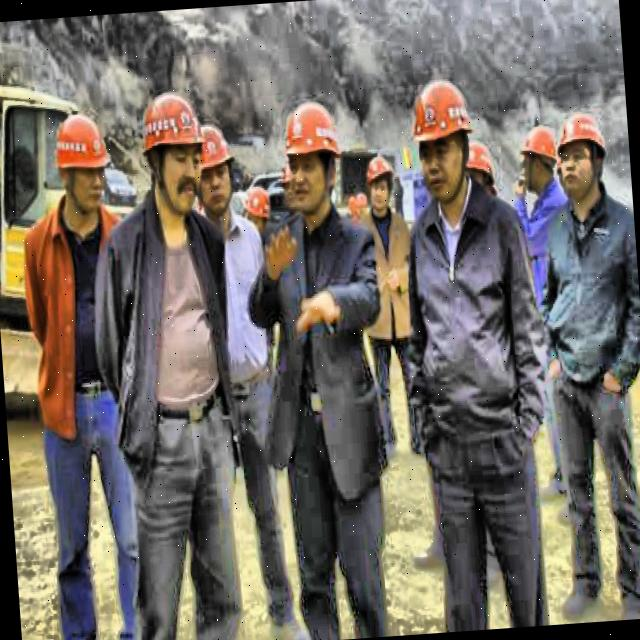helmet: (134, 86, 208, 214), (406, 73, 480, 200), (276, 92, 350, 218), (49, 110, 114, 218), (552, 102, 614, 206), (190, 120, 240, 218), (516, 121, 560, 195), (462, 139, 501, 212), (360, 144, 398, 215), (242, 176, 276, 248)
